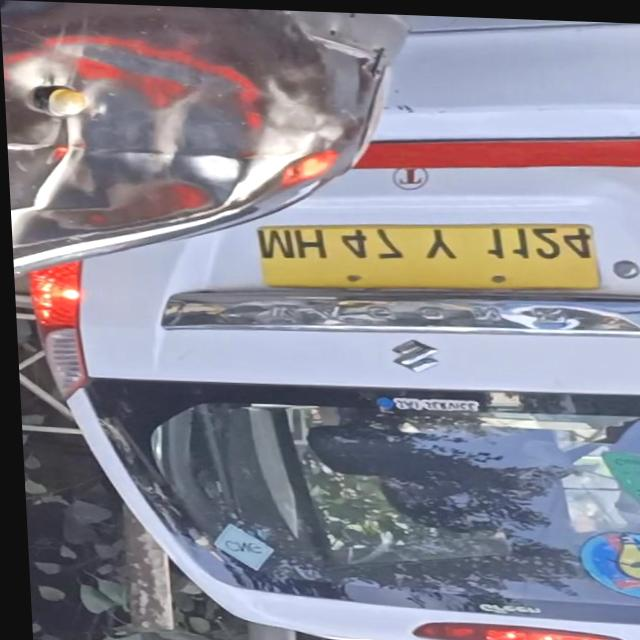1: (506, 223, 529, 257), (482, 223, 504, 257)
2: (529, 222, 560, 256)
4: (561, 221, 594, 256), (339, 226, 367, 256)
7: (370, 225, 402, 257)
h: (291, 225, 324, 258)
m: (255, 224, 292, 257)
y: (420, 223, 455, 258)
